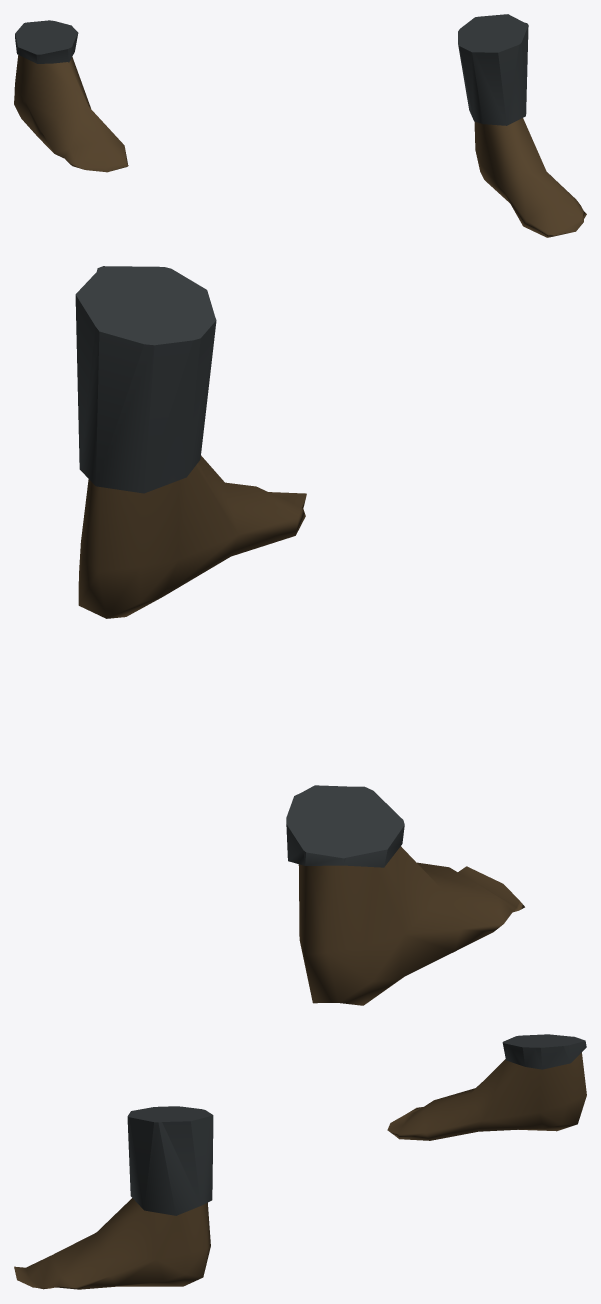
Rendered from Thief_Feet.fbx.
The picture shows the model from 3 angles, top to bottom: view 1: azimuth 30°, elevation 25°; view 2: azimuth 150°, elevation 25°; view 3: azimuth 270°, elevation 25°; orthographic projection. The views are drawn at different scales.
Visible parts, largest first — view 1: T_Feet; view 2: T_Feet; view 3: T_Feet.
Boxes of the visible parts, left/top/right/bottom form: T_Feet: left=14, top=14, right=586, bottom=237; T_Feet: left=75, top=266, right=524, bottom=1005; T_Feet: left=14, top=1034, right=586, bottom=1289.
Size of the model in its own units: 44.25 by 19.42 by 58.97.
